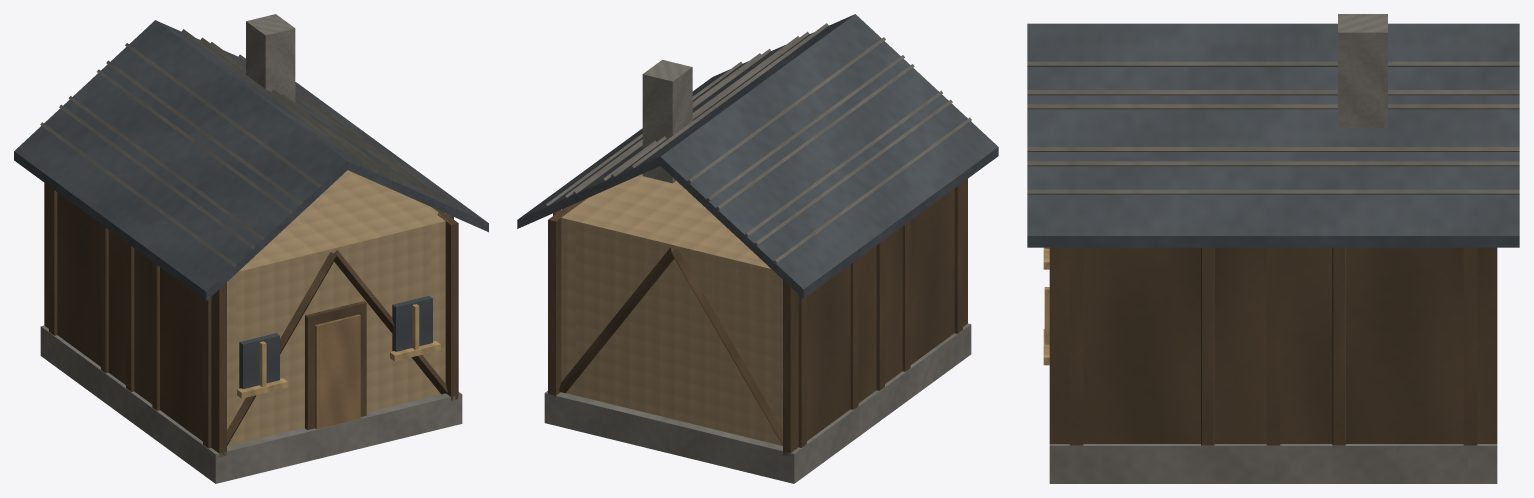
The model's file is TimberHouse.fbx.
The picture shows the model from 3 angles, left to right: view 1: azimuth 30°, elevation 25°; view 2: azimuth 150°, elevation 25°; view 3: azimuth 270°, elevation 25°; orthographic projection. The views are drawn at different scales.
Parts seen in each view (by area): view 1: TimberHouseDetail0, TimberHouseDetail1; view 2: TimberHouseDetail0, TimberHouseDetail1; view 3: TimberHouseDetail0, TimberHouseDetail1.
Part boxes in pixels (x1,y1,x2,y2): TimberHouseDetail0: (14,14,488,478); TimberHouseDetail1: (40,14,462,483); TimberHouseDetail0: (517,14,998,478); TimberHouseDetail1: (544,31,971,483); TimberHouseDetail0: (1027,14,1519,483); TimberHouseDetail1: (1027,14,1519,483).
Size of the model in its own units: 550 by 607 by 649.
1 material, 1 textured.
